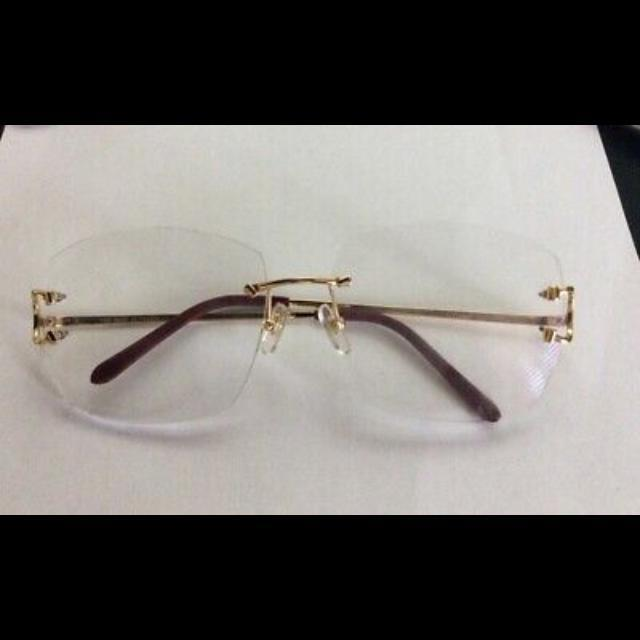mask: (27, 218, 576, 426)
